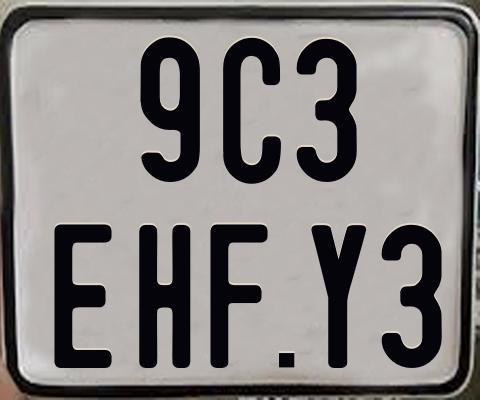3: (295, 39, 361, 186), (380, 222, 441, 370)
9: (139, 34, 199, 180)
C: (223, 36, 285, 183)
E: (54, 221, 118, 368)
F: (210, 221, 271, 366)
H: (137, 225, 190, 370)
Y: (309, 222, 369, 371)
